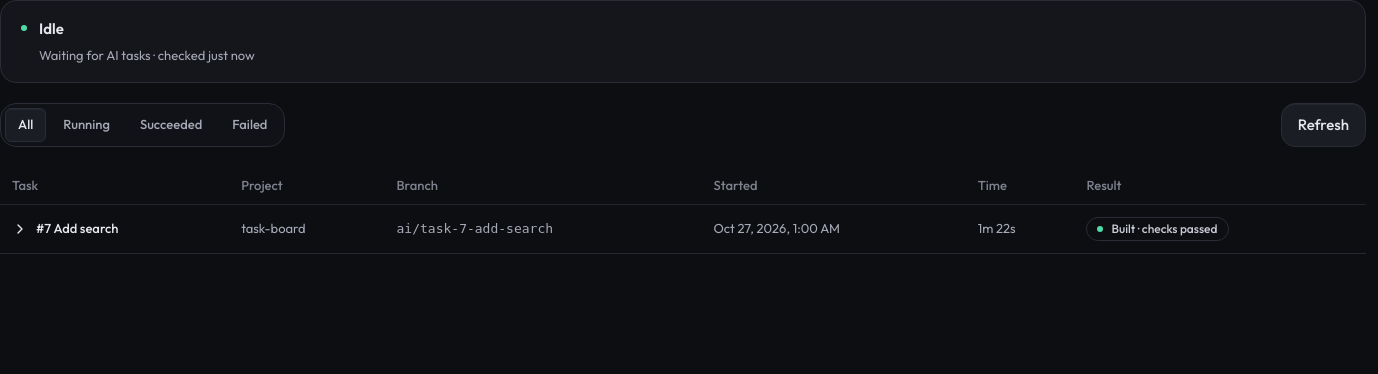
AiActivity › filters by result, and shows a failed run with why
This screenshot has width=1378, height=374.
Check: the text "Built · checks passed" is shown, box [1086,217,1228,241]
Click the button "Failed" at (250, 125), box [219,108,280,142]
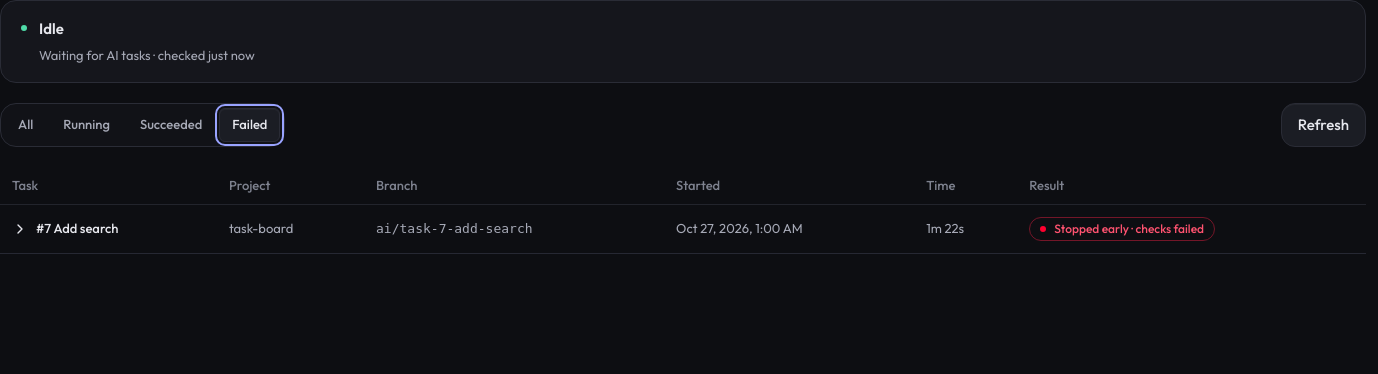
Check: the text "Stopped early · checks failed" has class "danger", box [1029,217,1215,241]
Click the button "#7 Add search" at (108, 229), box [12,218,205,239]
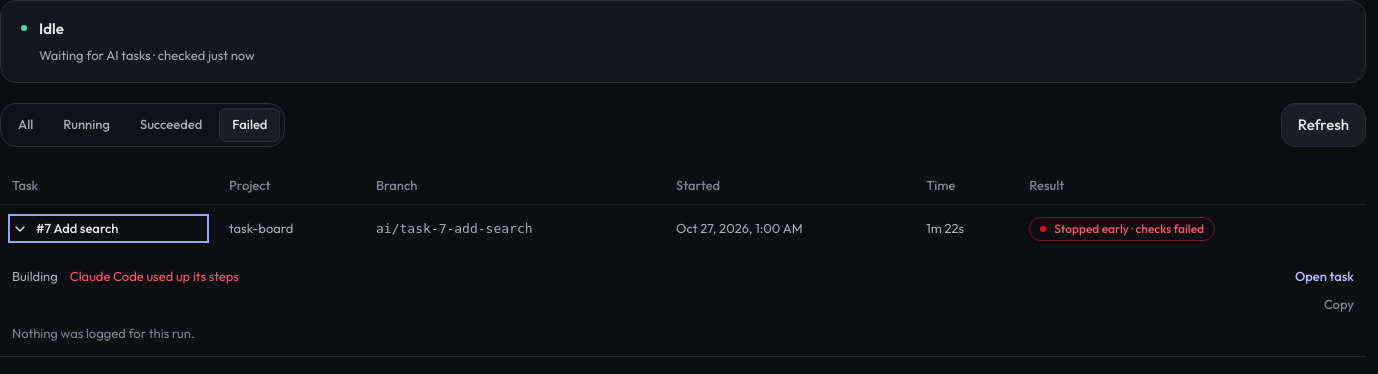
Check: the text "Claude Code used up its steps" is shown, box [70,266,239,286]
